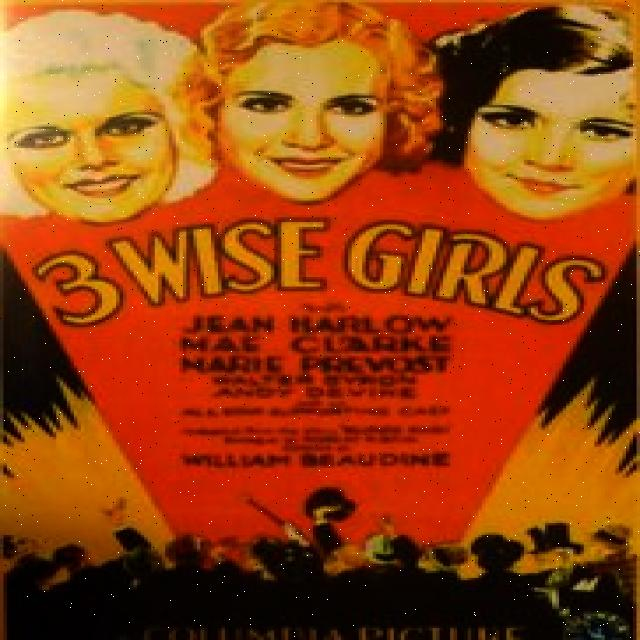movie-judul: (38, 218, 607, 327)
picture: (3, 247, 640, 640), (0, 0, 640, 223)
